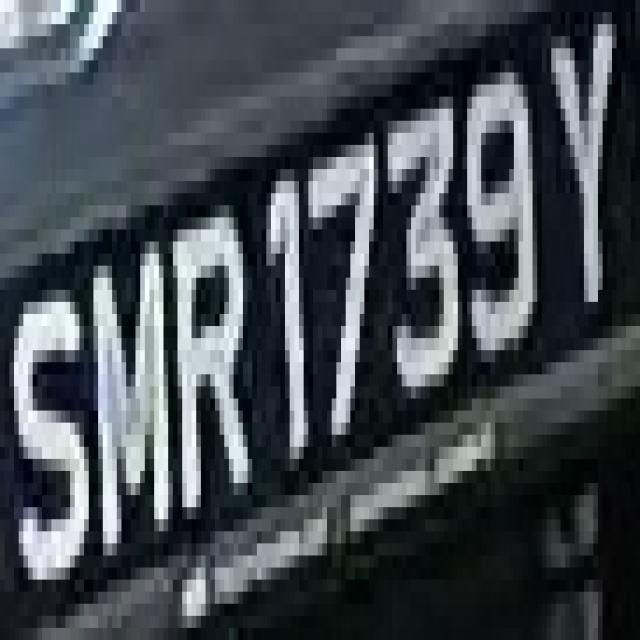1: (243, 169, 322, 531)
3: (383, 72, 467, 447)
7: (304, 121, 388, 483)
9: (458, 48, 542, 423)
M: (94, 242, 182, 592)
R: (164, 169, 252, 519)
S: (19, 229, 98, 616)
Y: (542, 12, 626, 362)
